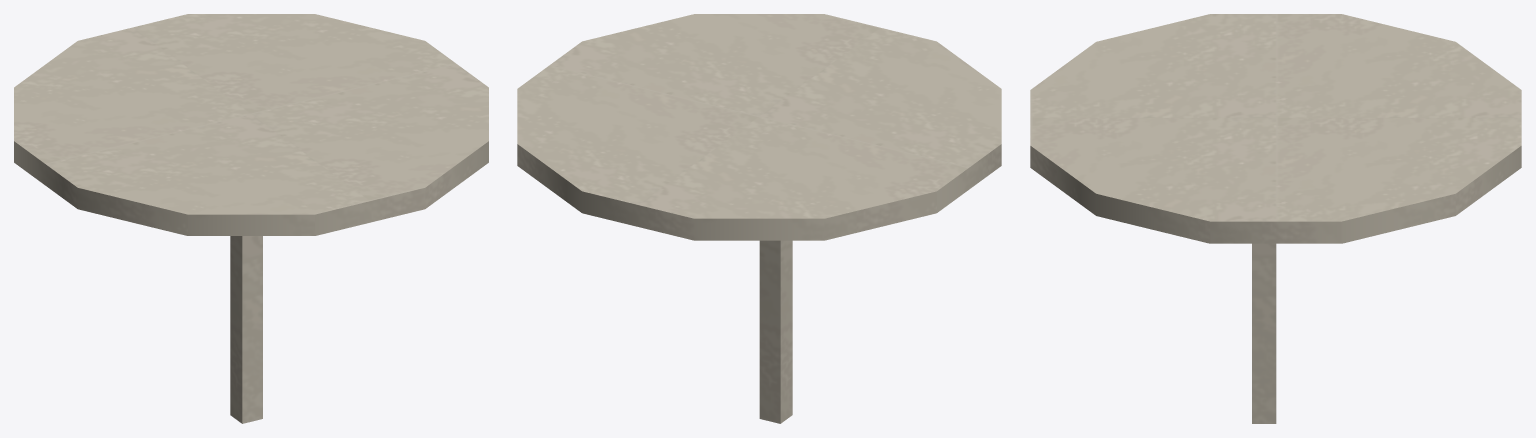
File: round_resto_table.fbx
3 renders of one model, left to right at view 1: azimuth 30°, elevation 25°; view 2: azimuth 150°, elevation 25°; view 3: azimuth 270°, elevation 25°, orthographic. The views are drawn at different scales.
Parts seen in each view (by area): view 1: Mall Wall Mesh (1); view 2: Mall Wall Mesh (1); view 3: Mall Wall Mesh (1).
Boxes of the visible parts, box(x1,y1,x2,y2) form: Mall Wall Mesh (1): box(14, 14, 488, 423); Mall Wall Mesh (1): box(517, 14, 1001, 423); Mall Wall Mesh (1): box(1030, 14, 1521, 423).
Size of the model in its own units: 2 by 1.38 by 2.
